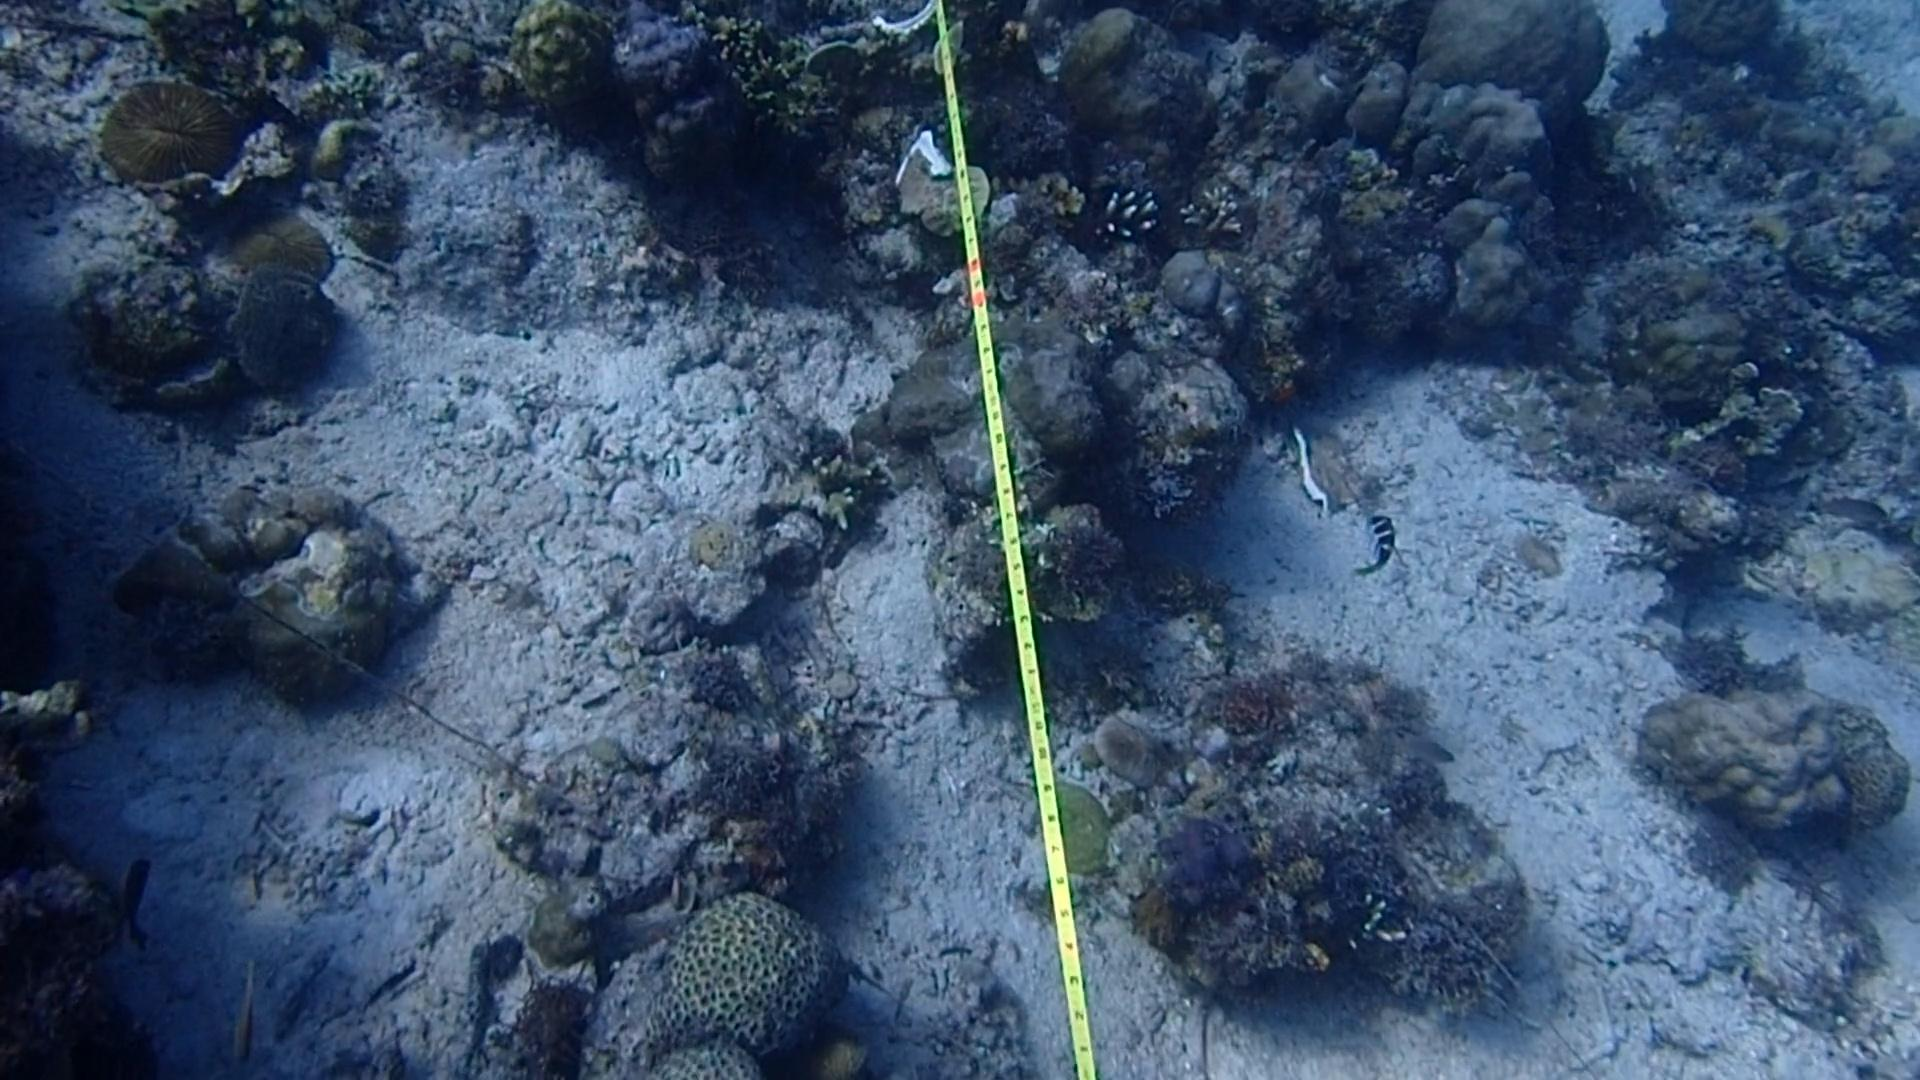Striped Fish: (1350, 505, 1408, 582)
